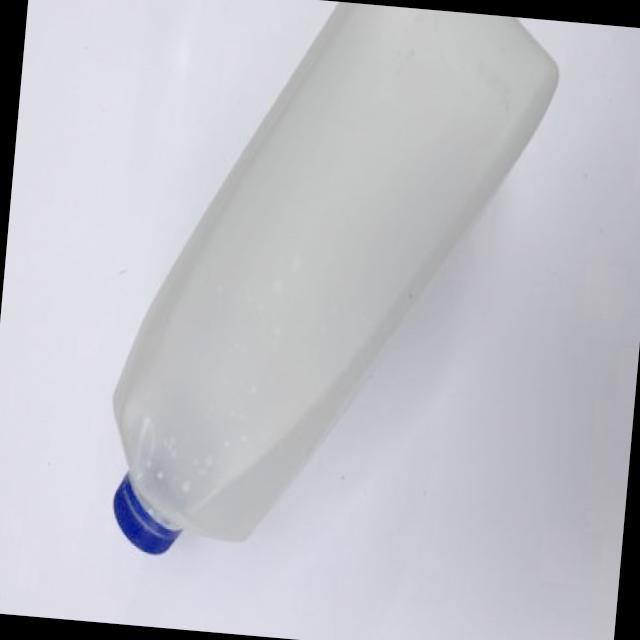HDPE Plastic: (108, 1, 564, 559)
